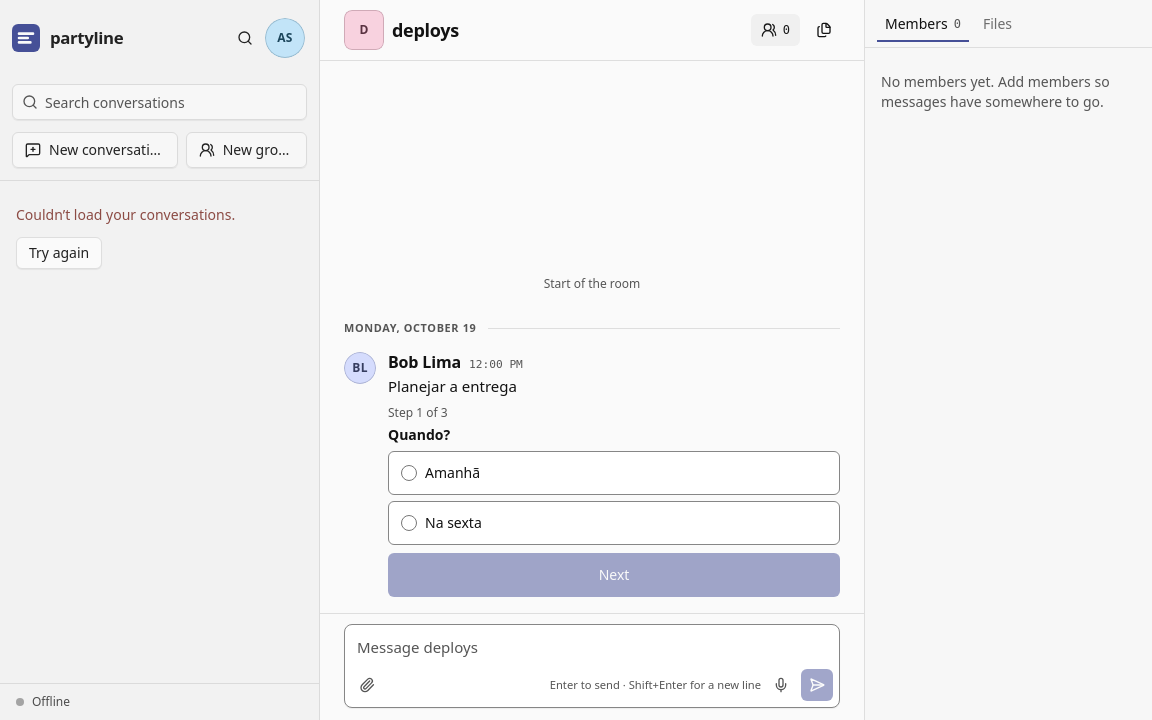
Test: TestStepsAndValidity › keeps Next and Send disabled until the step is valid, and shows Send on the last step
Expected: the text "Planejar a entrega" is shown, [388,376,517,396]
Expected: the button "Next" is disabled, [388,553,840,597]
Click the radio button labelled "Amanhã" at (409, 473), box [401,465,417,481]
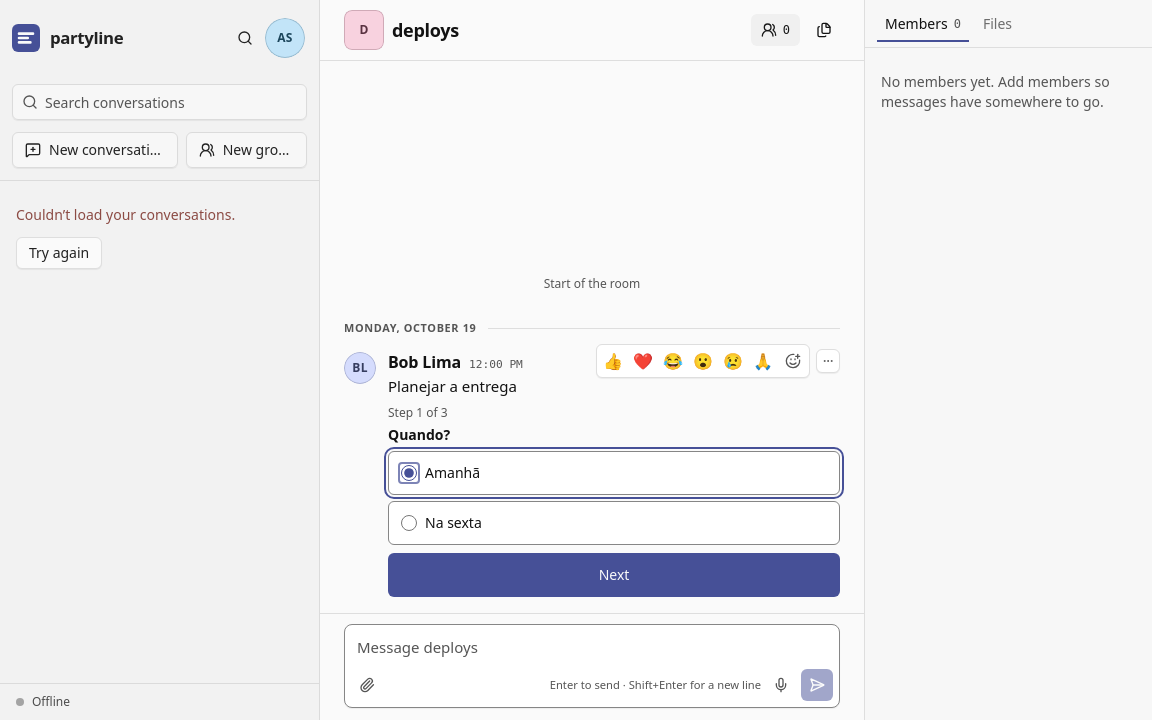
Expected: the button "Next" is enabled
Click the button "Next" at (614, 575), box [388,553,840,597]
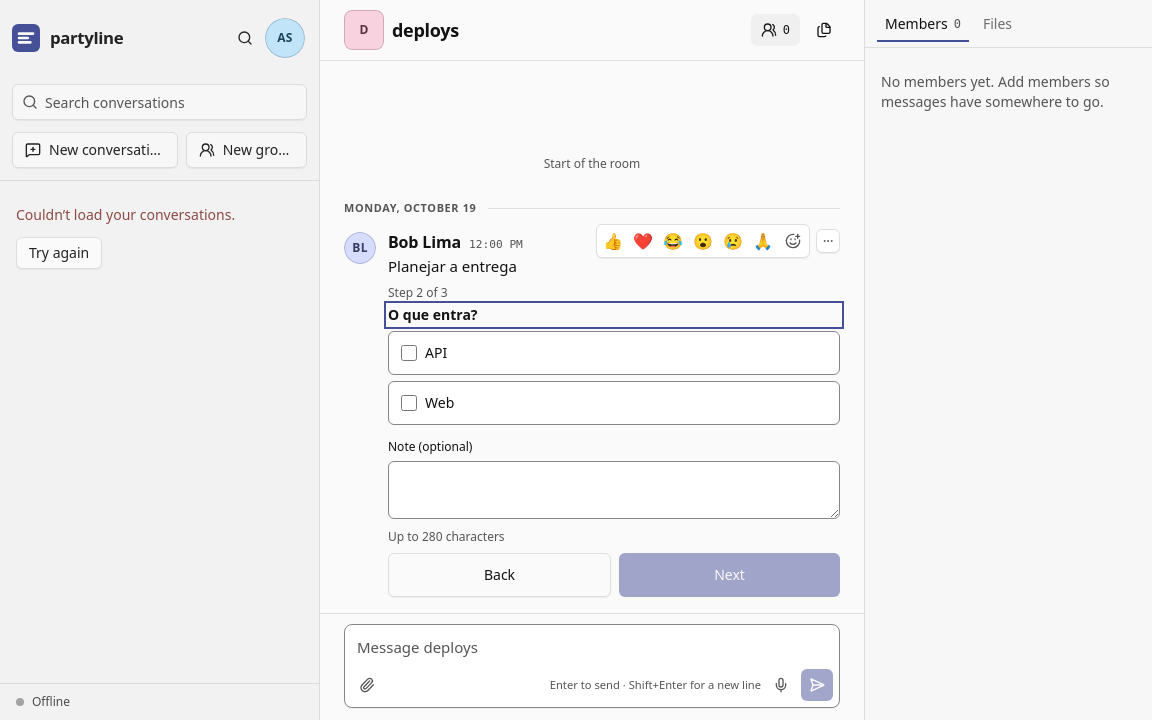
Expected: the heading "O que entra?" is shown, [388,305,478,324]
Expected: the button "Next" is disabled, [619,553,840,597]
Click the checkbox labelled "API" at (409, 353), box [401,345,417,361]
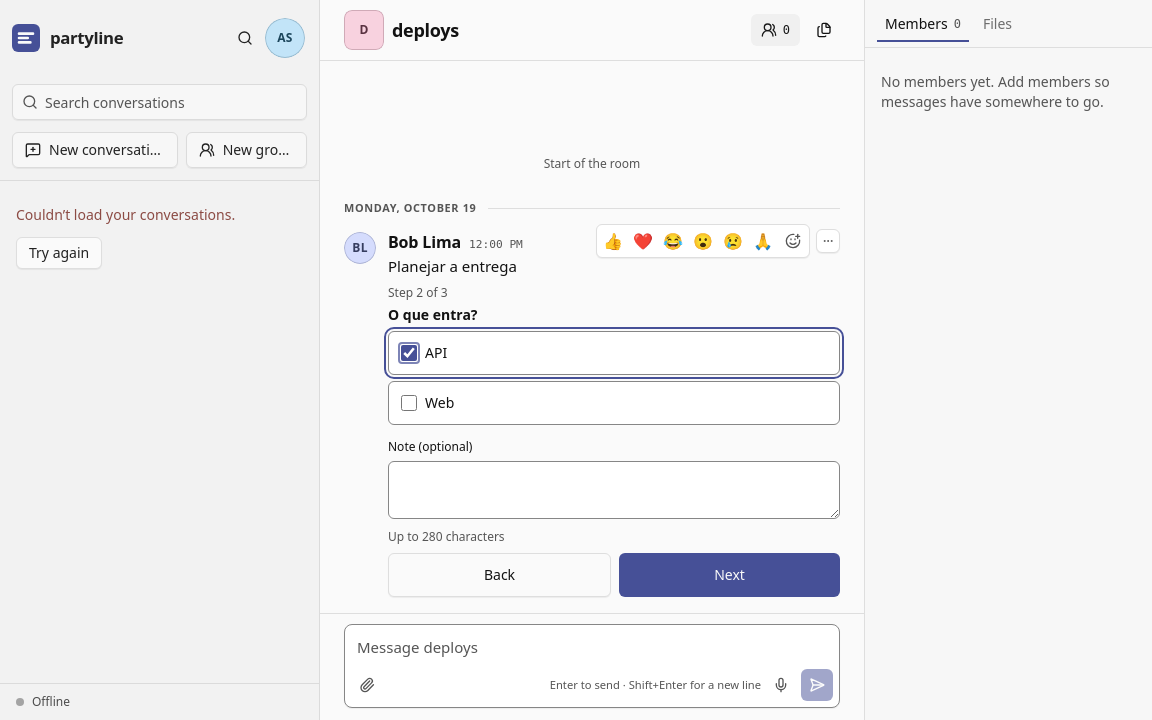
Expected: the button "Next" is enabled
Click the button "Next" at (730, 575), box [619,553,840,597]
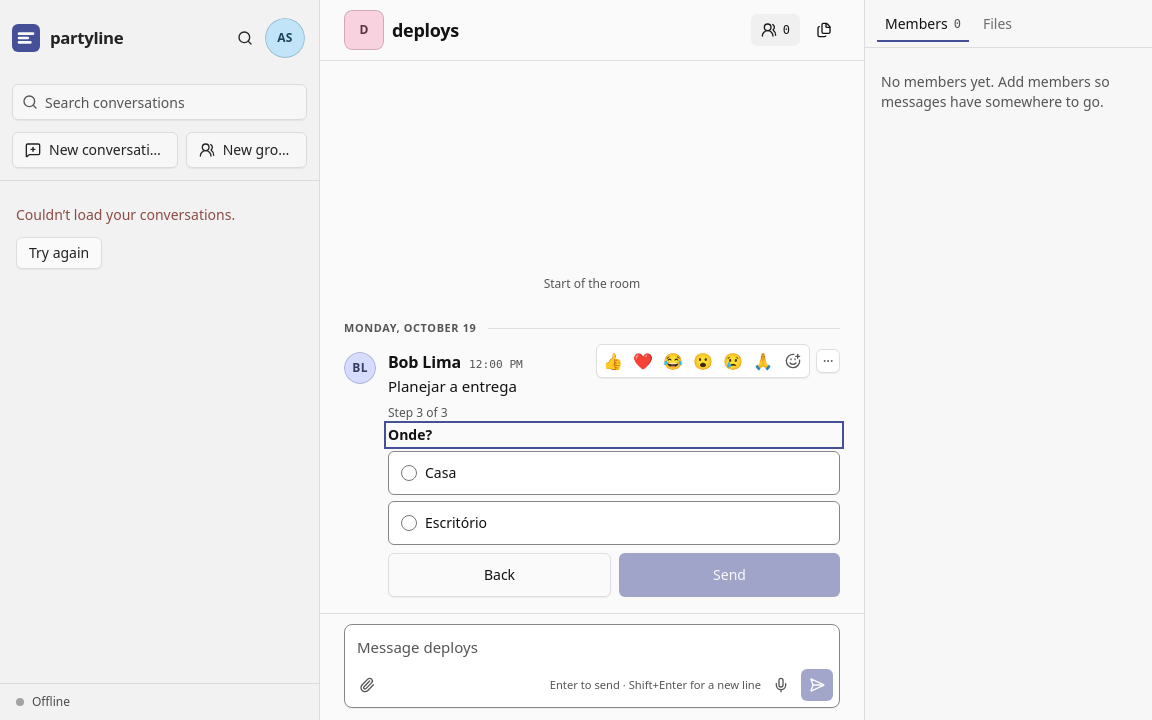
Expected: the button "Send" is disabled, [619,553,840,597]
Click the radio button labelled "Casa" at (409, 473), box [401,465,417,481]
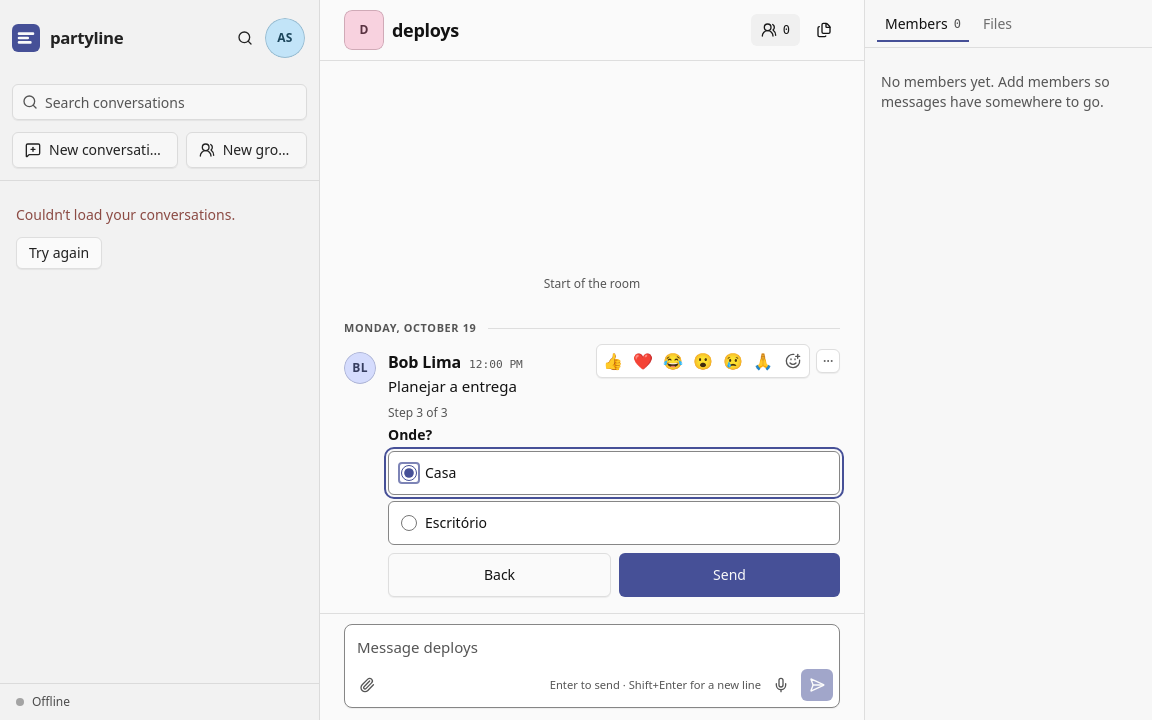
Expected: the button "Send" is enabled, [619,553,840,597]
